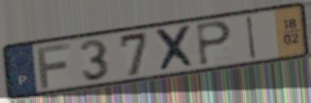3: (78, 38, 112, 82)
7: (118, 32, 151, 78)
F: (35, 41, 73, 90)
I: (245, 14, 258, 61)
P: (195, 20, 234, 68)
X: (152, 23, 199, 74)
